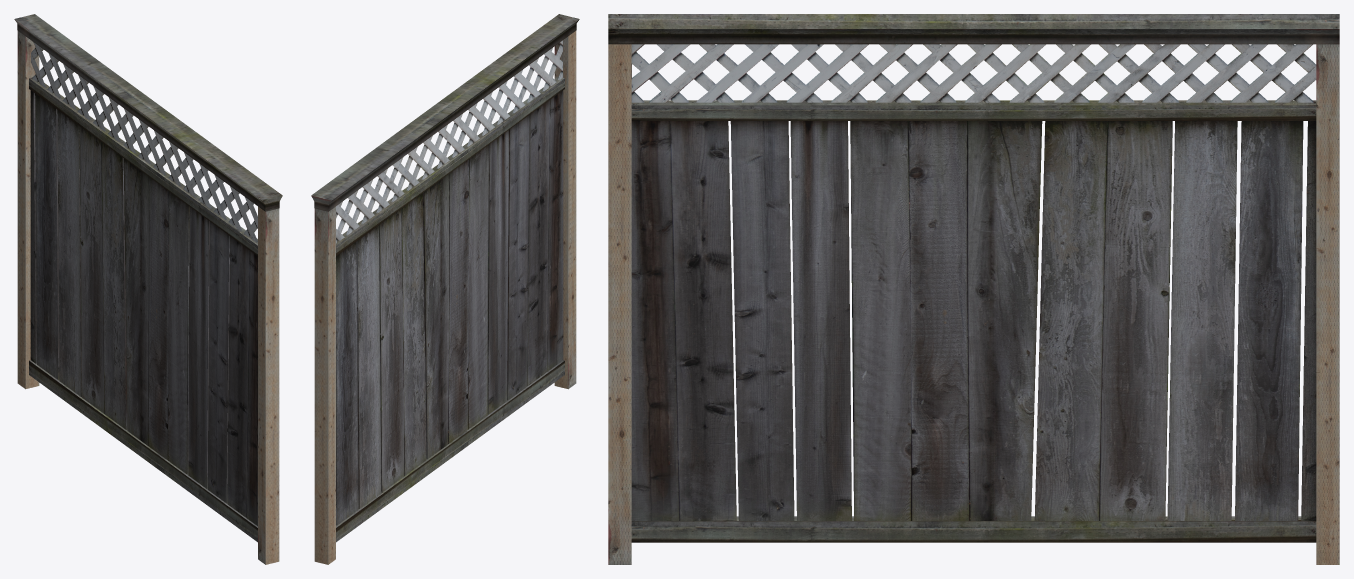
The model's file is fence_1.fbx.
3 renders of one model, left to right at view 1: azimuth 30°, elevation 25°; view 2: azimuth 150°, elevation 25°; view 3: azimuth 270°, elevation 25°, orthographic. The views are drawn at different scales.
Visible parts, largest first — view 1: fence_1; view 2: fence_1; view 3: fence_1.
Boxes of the visible parts, <box> form: fence_1: <box>14,14,282,564</box>; fence_1: <box>311,14,579,564</box>; fence_1: <box>608,14,1339,564</box>.
Bounding box in the file's own units: 0.5152 × 8.67 × 10.68.
